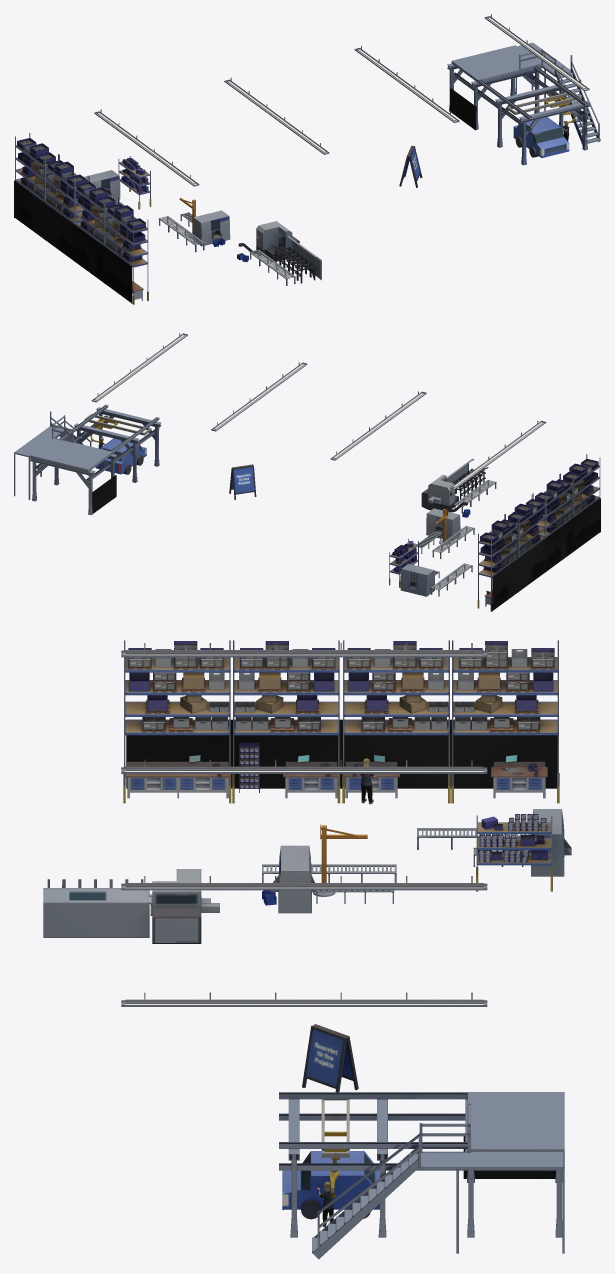
File: commision.glb
3 renders of one model, top to bottom at view 1: azimuth 30°, elevation 25°; view 2: azimuth 150°, elevation 25°; view 3: azimuth 270°, elevation 25°, orthographic. The views are drawn at different scales.
Visible parts, largest first — view 1: Schwerlastregal_voll.041, d_Cube.012, d_lights.002, d_Fließband.012, d_Cube.009, d_Cube.010, d_sign.002; view 2: Schwerlastregal_voll.041, d_Cube.012, d_lights.002, d_Fließband.012, d_Cube.010, d_Cube.009, d_sign.002; view 3: Schwerlastregal_voll.041, d_Cube.012, d_lights.002, d_Fließband.012, d_Cube.010, d_Cube.009, D_Montageplatz1.004, d_sign.002.
Boxes of the visible parts, x1=… form: Schwerlastregal_voll.041: x1=14, y1=133, x2=148, y2=304; d_Cube.012: x1=447, y1=42, x2=600, y2=165; d_lights.002: x1=94, y1=14, x2=589, y2=186; d_Fließband.012: x1=237, y1=221, x2=321, y2=285; d_Cube.009: x1=158, y1=198, x2=230, y2=252; d_Cube.010: x1=84, y1=156, x2=151, y2=209; d_sign.002: x1=399, y1=145, x2=422, y2=187; Schwerlastregal_voll.041: x1=477, y1=454, x2=600, y2=611; d_Cube.012: x1=14, y1=404, x2=161, y2=515; d_lights.002: x1=91, y1=333, x2=546, y2=489; d_Fließband.012: x1=421, y1=458, x2=496, y2=517; d_Cube.010: x1=389, y1=538, x2=472, y2=596; d_Cube.009: x1=416, y1=508, x2=474, y2=558; d_sign.002: x1=229, y1=464, x2=256, y2=499; Schwerlastregal_voll.041: x1=123, y1=640, x2=559, y2=803; d_Cube.012: x1=279, y1=1092, x2=564, y2=1259; d_lights.002: x1=121, y1=643, x2=487, y2=1006; d_Fließband.012: x1=43, y1=869, x2=219, y2=943; d_Cube.010: x1=417, y1=809, x2=571, y2=891; d_Cube.009: x1=262, y1=824, x2=396, y2=913; D_Montageplatz1.004: x1=283, y1=754, x2=399, y2=798; d_sign.002: x1=302, y1=1024, x2=358, y2=1092.
Size of the model in its own units: 30.35 by 6.31 by 14.55.
Materials: 3 (3 with a texture image).
